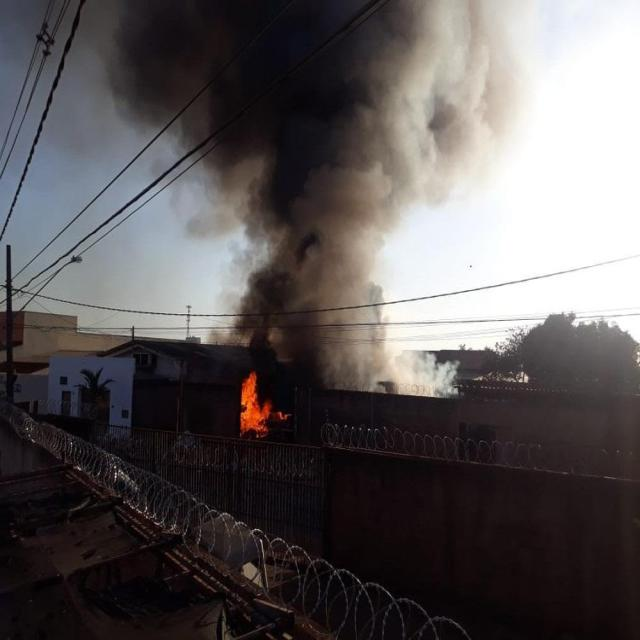Fire: (242, 374, 264, 436)
